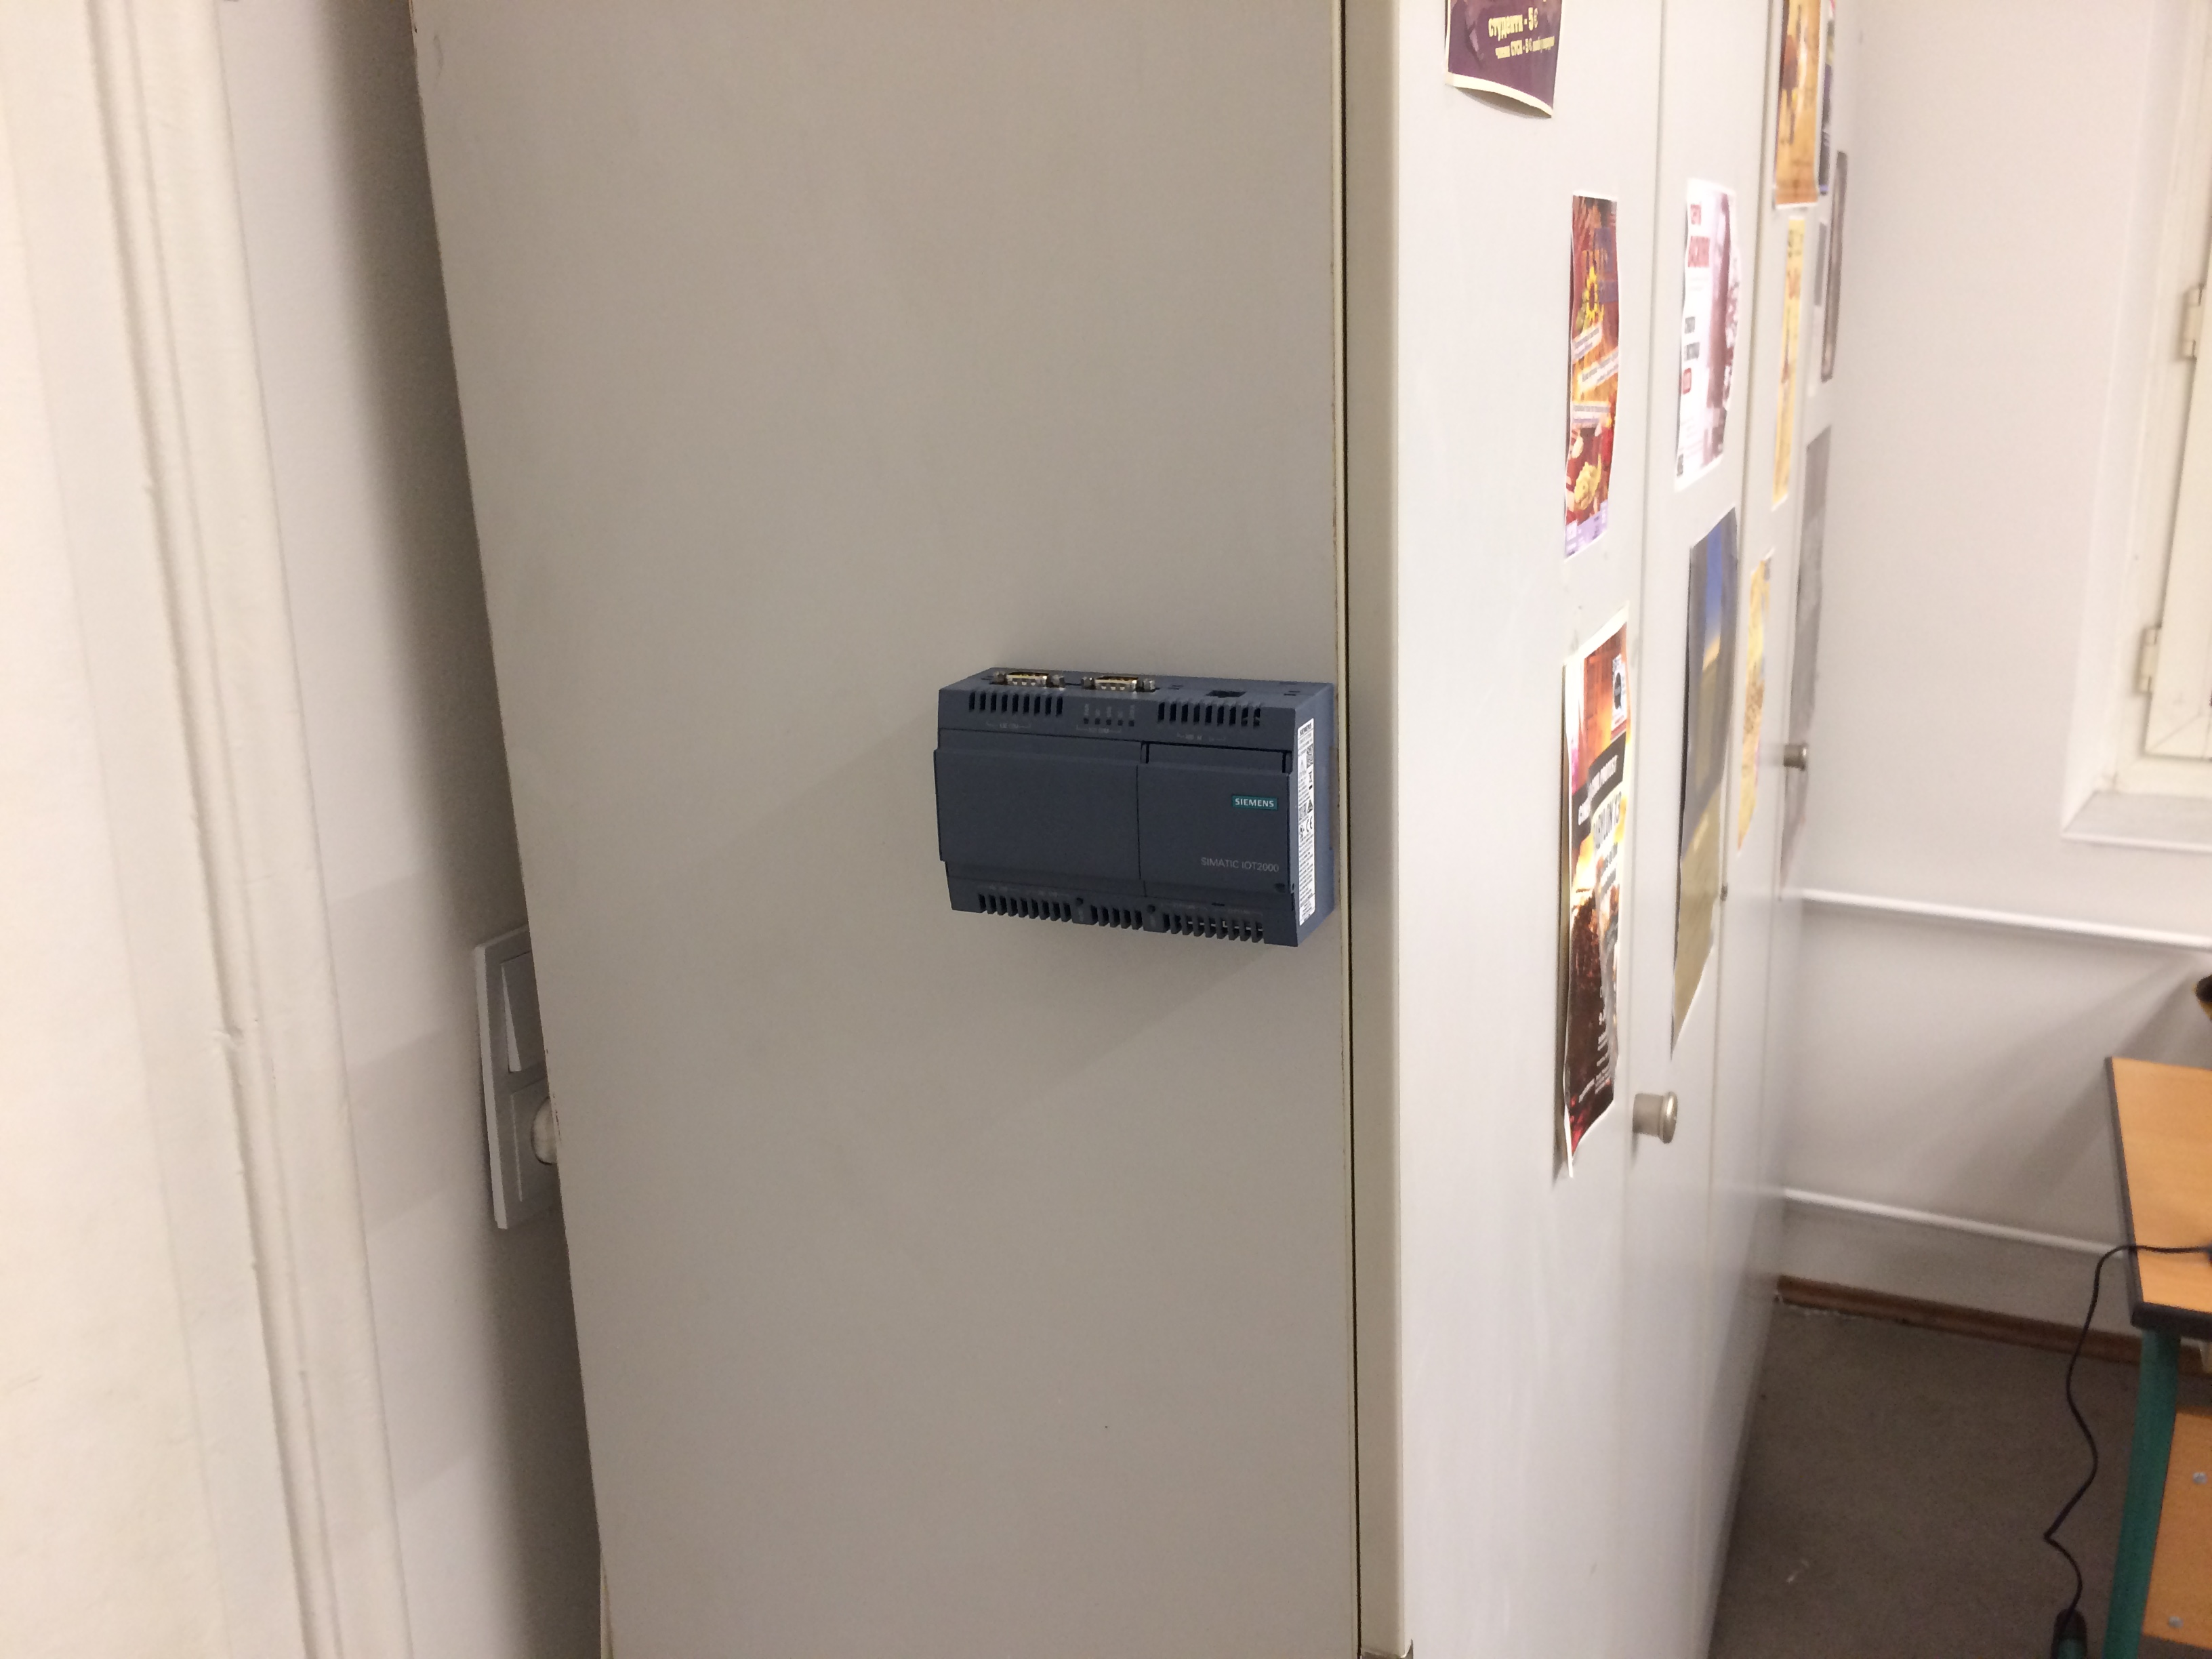iot2000: (930, 662, 1341, 951)
